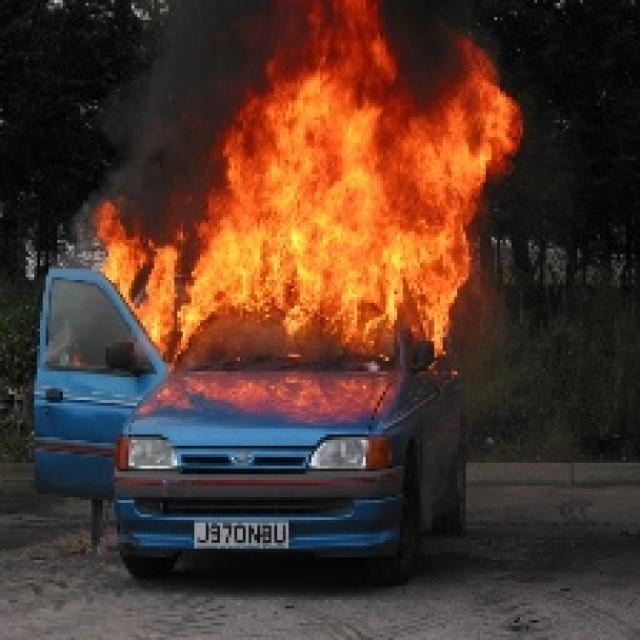Fire: (100, 204, 476, 369), (224, 3, 518, 204)
Smoke: (121, 0, 224, 201)
